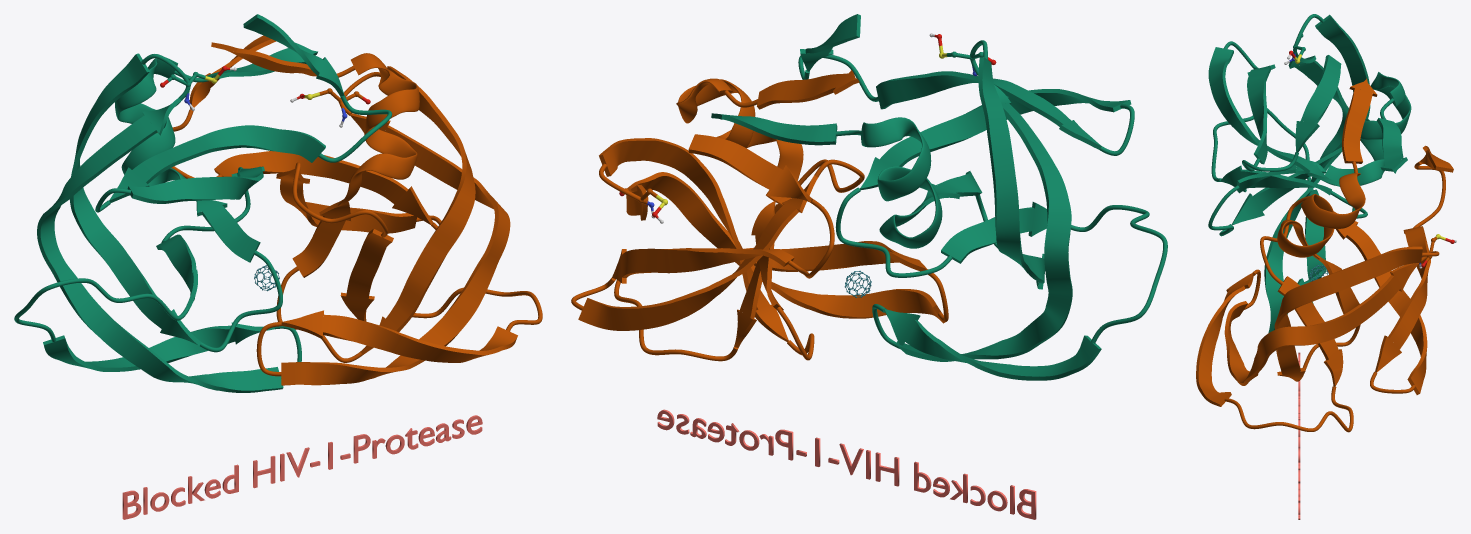
The picture shows the model from 3 angles, left to right: view 1: azimuth 30°, elevation 25°; view 2: azimuth 150°, elevation 25°; view 3: azimuth 270°, elevation 25°; orthographic projection. The views are drawn at different scales.
Parts seen in each view (by area): view 1: proteaseModel, Text.001; view 2: proteaseModel, Text.001; view 3: proteaseModel, Text.001.
Boxes of the visible parts, bbox=[...] form: proteaseModel: bbox=[14, 14, 542, 392]; Text.001: bbox=[122, 415, 482, 519]; proteaseModel: bbox=[571, 14, 1167, 380]; Text.001: bbox=[657, 409, 1036, 519]; proteaseModel: bbox=[1196, 14, 1456, 432]; Text.001: bbox=[1298, 352, 1300, 519].
Size of the model in its own units: 41.55 by 35.67 by 22.05.
